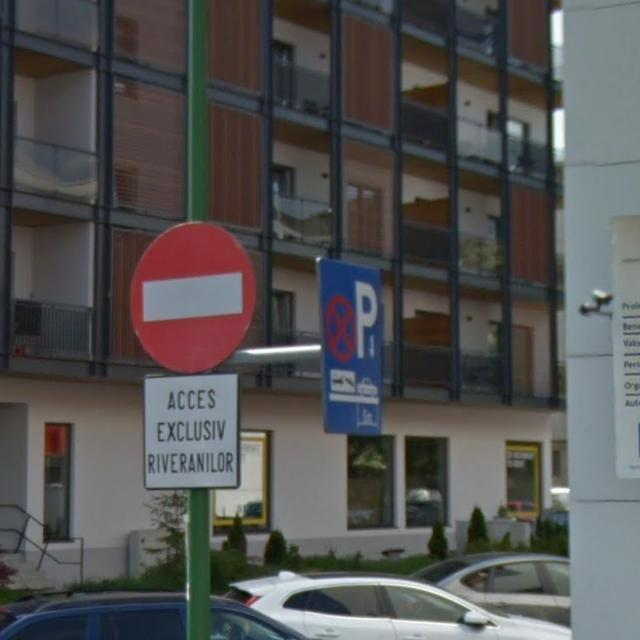forb_waiting: (327, 295, 356, 363)
